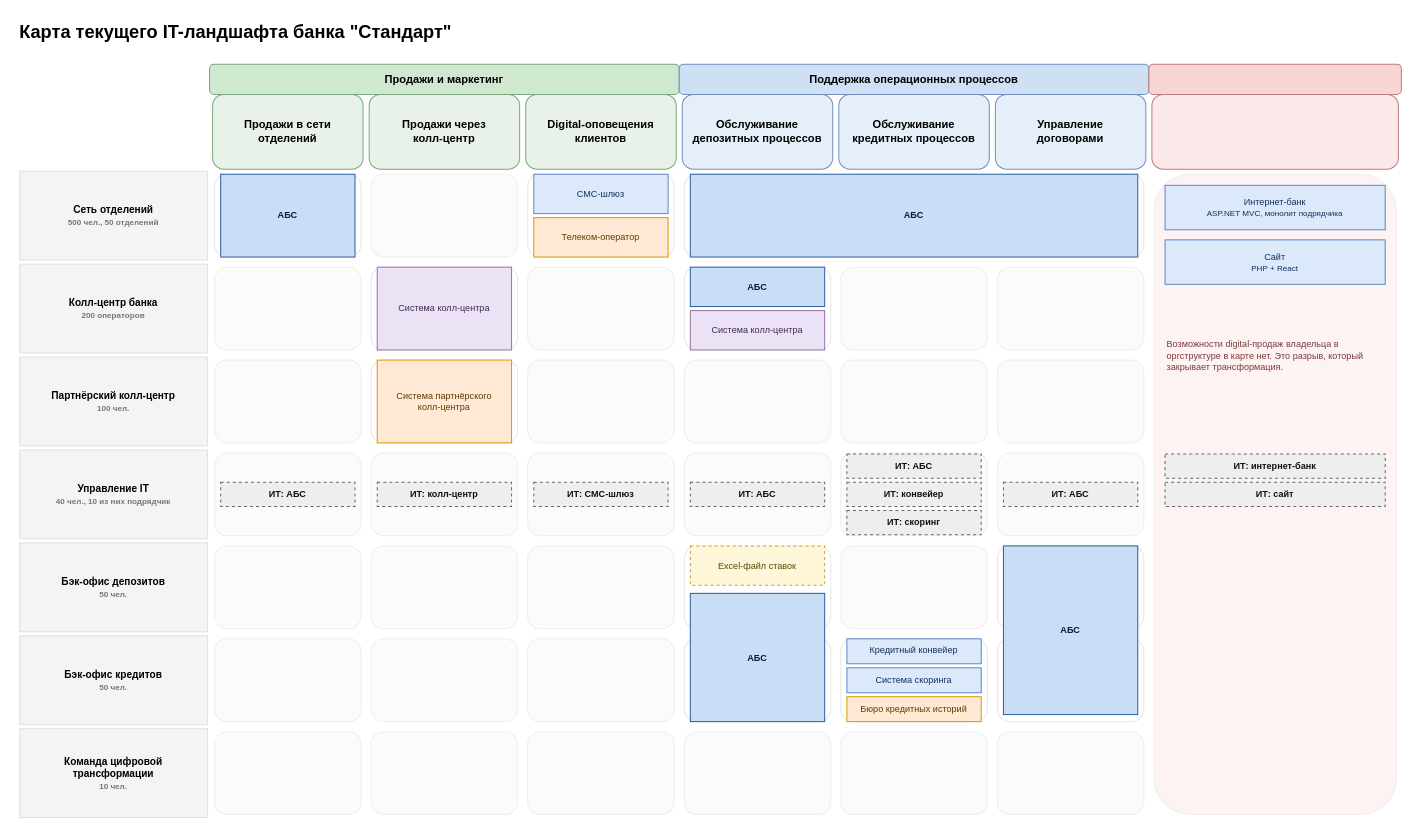
The diagram is 1419 pixels wide and 835 high, and some of its shapes have lost their labels. Here are the shapes that lost their labels. From the top down, the centre of each, then its label:
[1274,78]: Каналы вне карты возможностей
[1274,131]: Digital-продажи и самообслуживание такой возможности в карте нет
